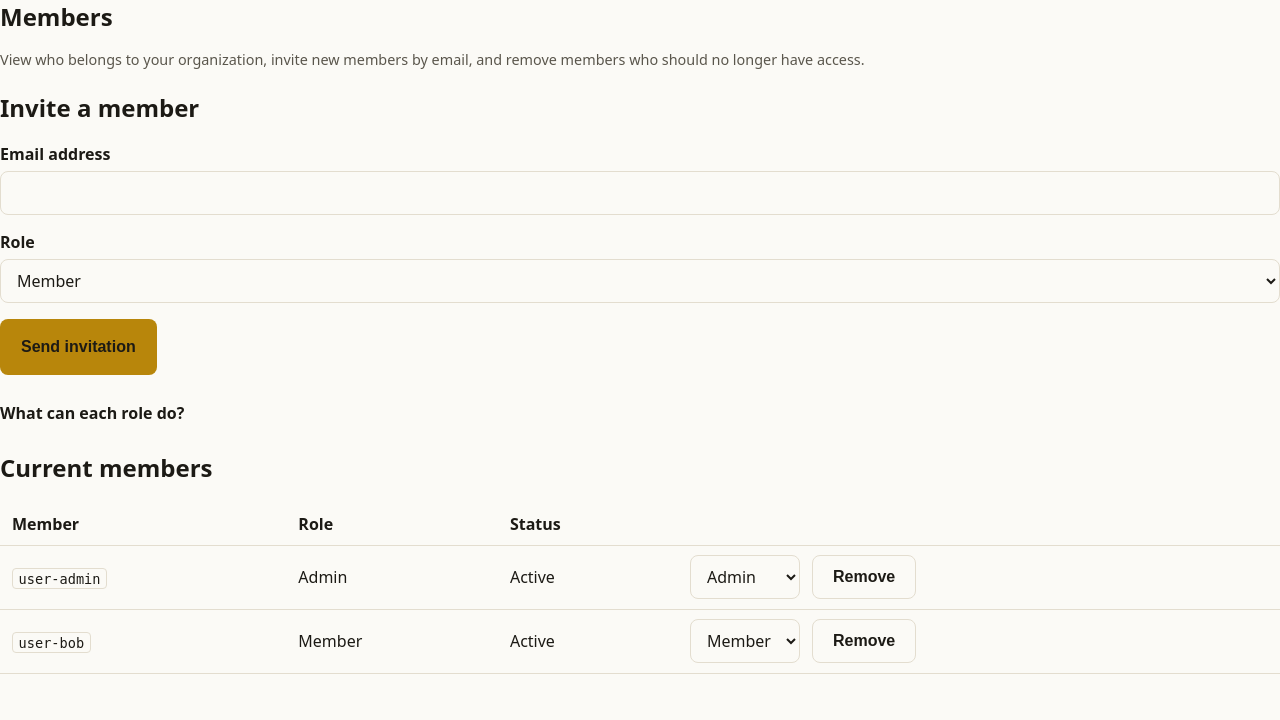
Test: MemberManagement — change role (NFR-ROL-1, D-3) › surfaces a 404 (no longer a member) and a 403 (not permitted) with distinct messages
The image size is (1280, 720).
Check: the text "user-bob" is shown, box [12,632,91,653]
# 404 — the target is no longer a member.
Select "Admin" in the dropdown named "change role for member user-bob" in the row of "user-bob" at x=745, y=642, box [690,620,800,664]
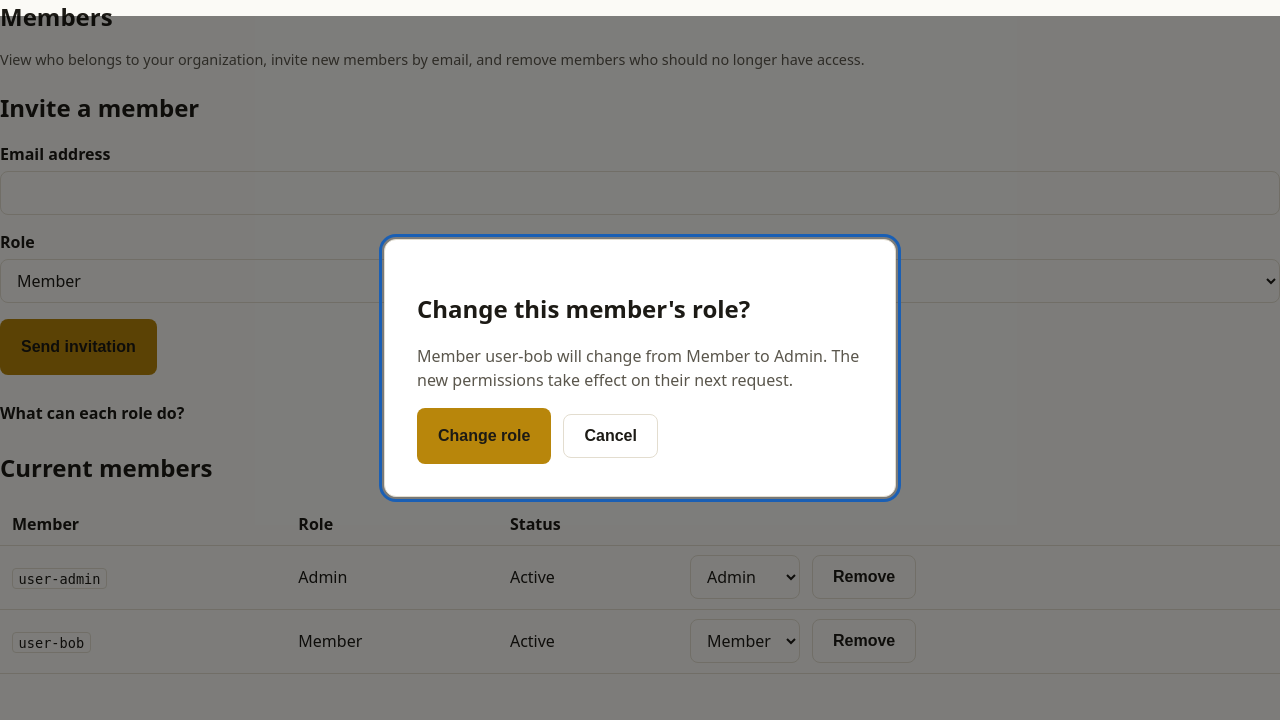
Click the button "Change role".
click(484, 436)  # box [417,408,552,464]
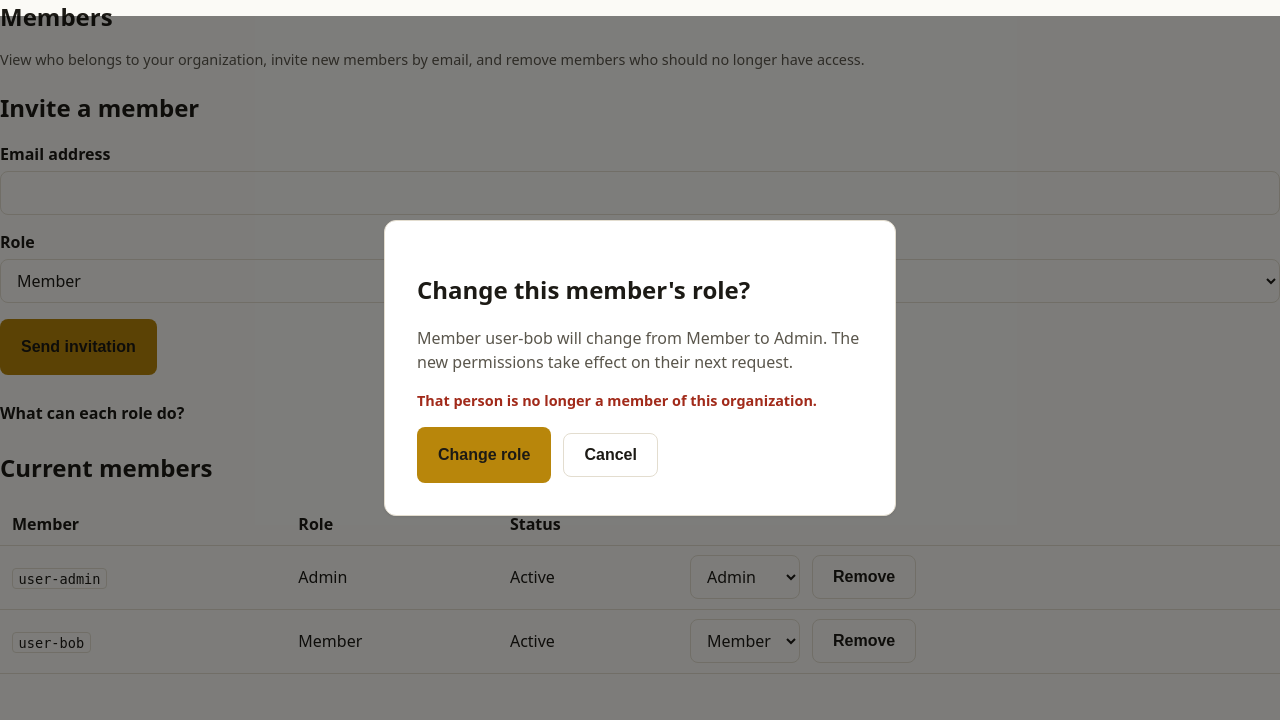
Check: the text "That person is no longer a member of this organization." is shown, box [417,390,863,411]
Click the button "Cancel".
click(611, 455)  # box [564,433,658,477]
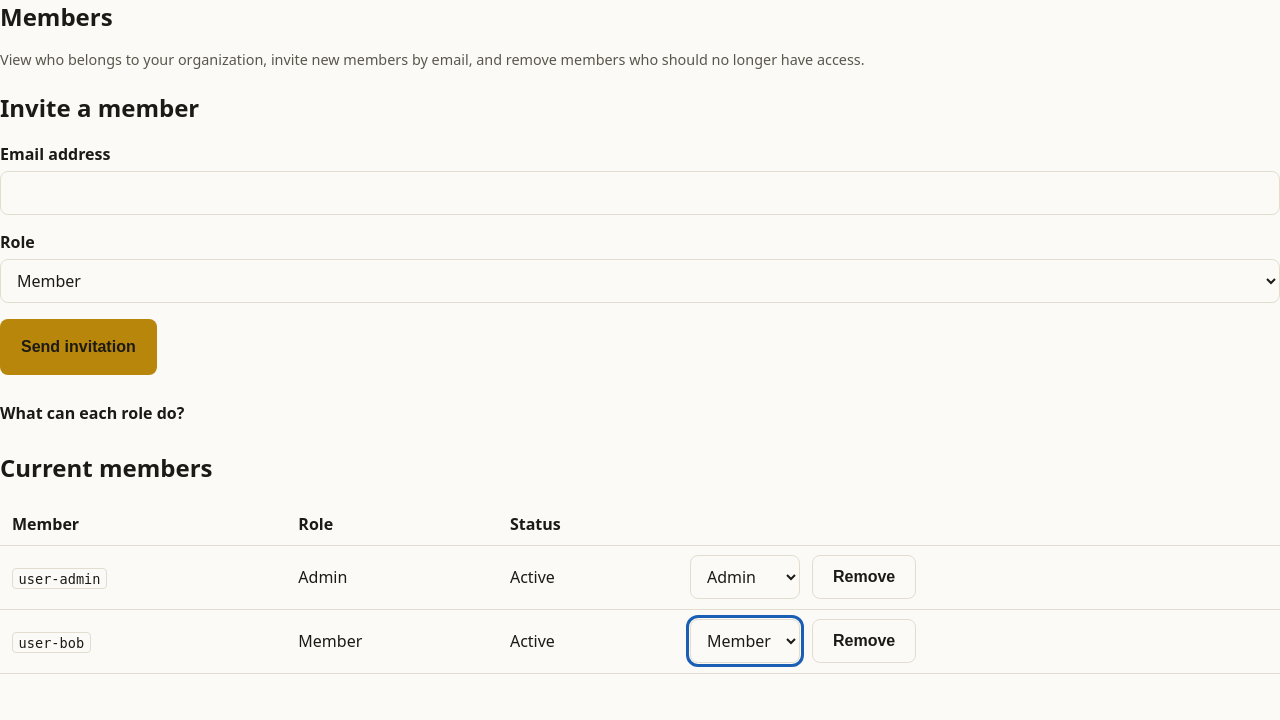
# 403 — the server refuses (admin-only re-enforced).
Select "Admin" in the dropdown named "change role for member user-bob" in the row of "user-bob" at x=745, y=642, box [690,620,800,664]
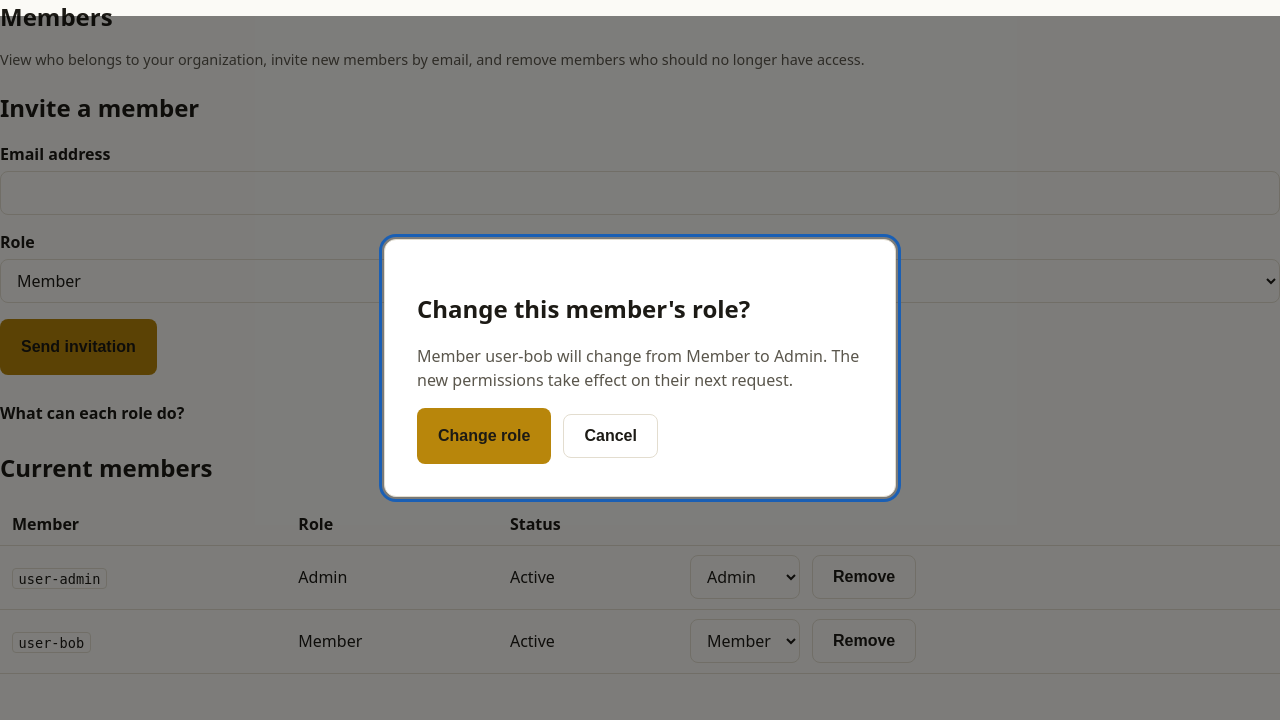
Click the button "Change role".
click(484, 436)  # box [417,408,552,464]
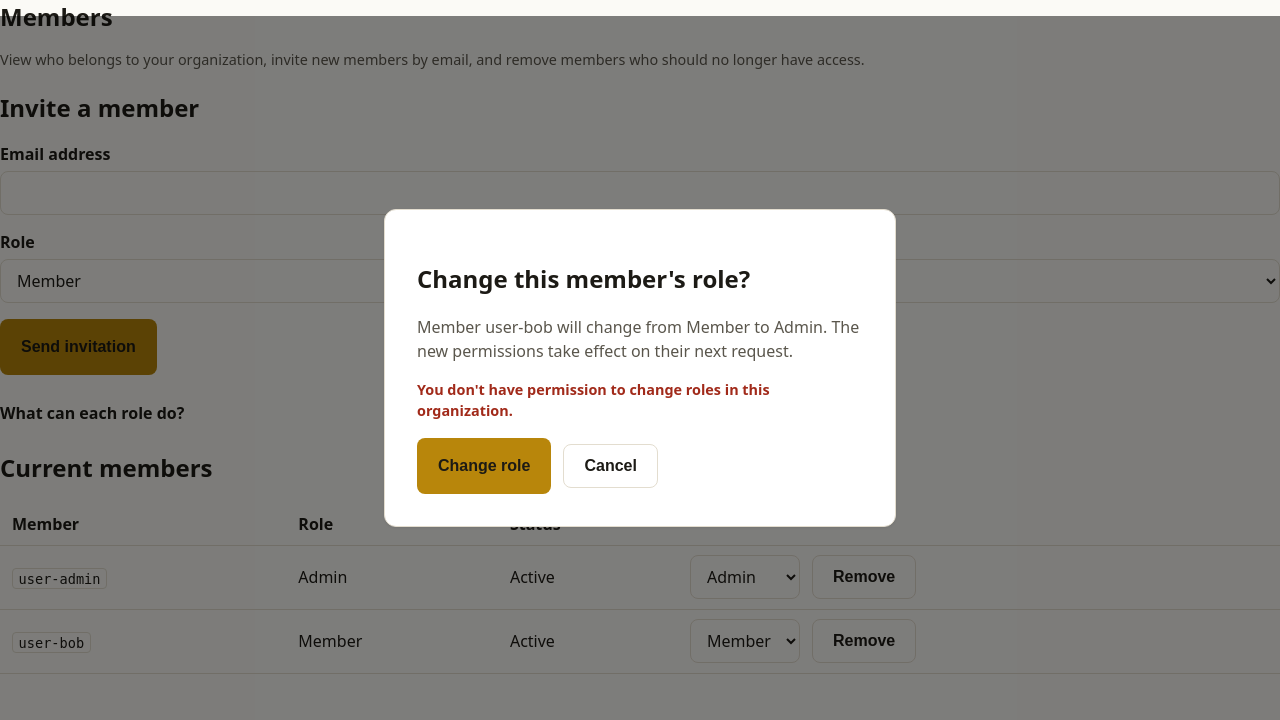
Check: the text "You don't have permission to change roles in this organization." is shown, box [417,380,770,420]
